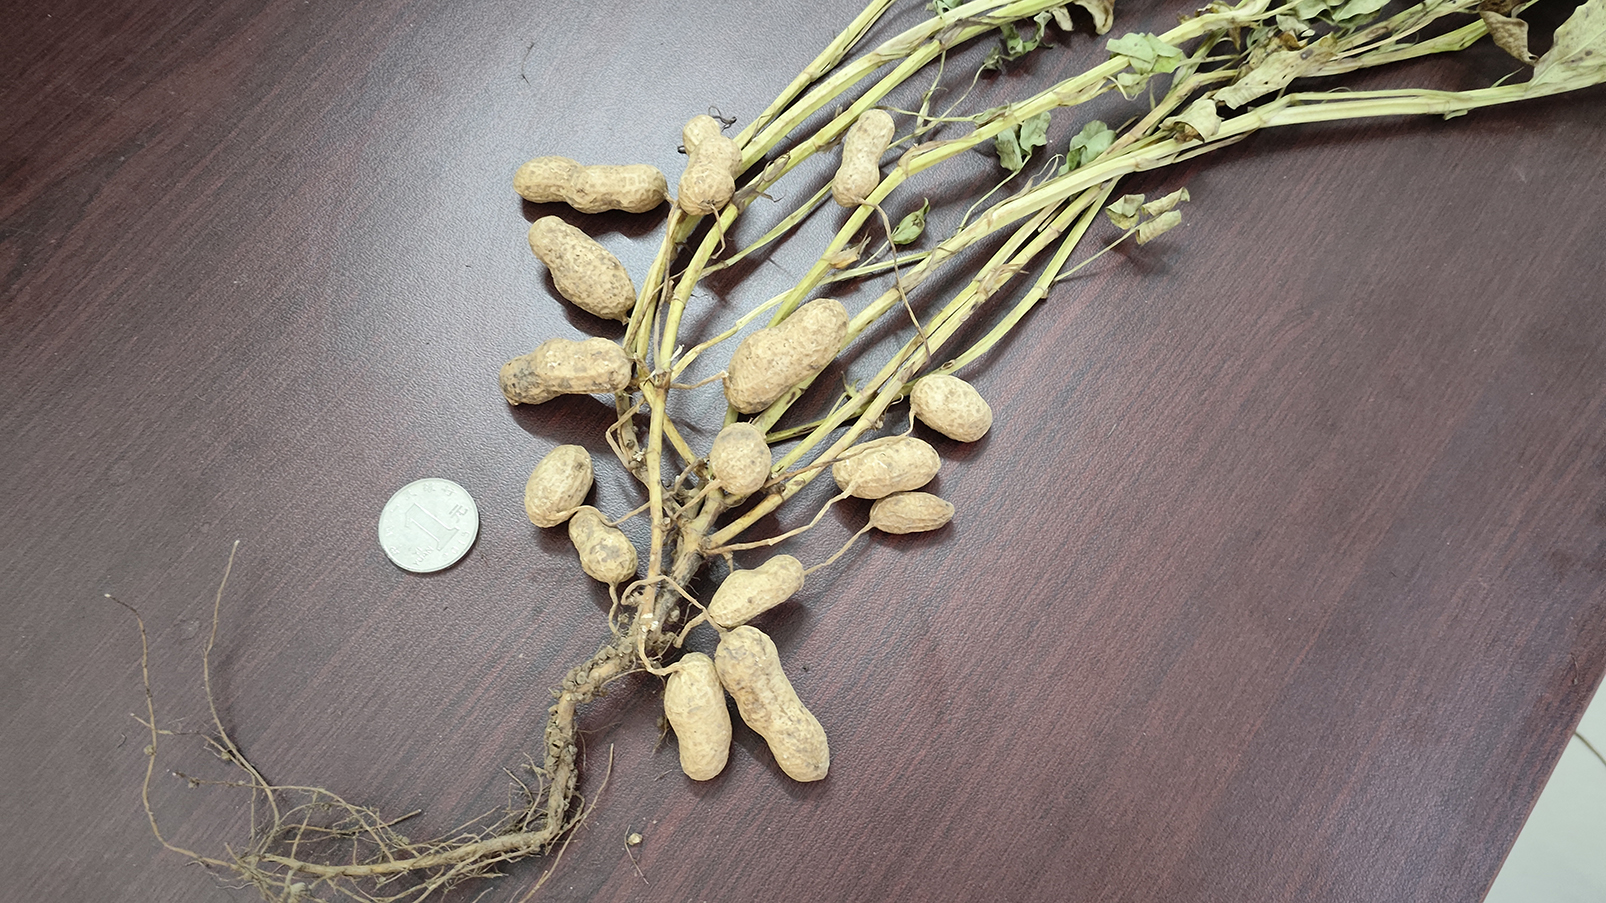h: (715, 625, 829, 781), (724, 299, 848, 413), (528, 215, 638, 323), (499, 333, 630, 405), (662, 651, 731, 782), (515, 155, 668, 214), (708, 553, 806, 627), (829, 436, 941, 498), (677, 112, 742, 215), (829, 108, 895, 206), (909, 370, 995, 442), (522, 442, 595, 526), (566, 507, 636, 584), (707, 422, 772, 494), (869, 490, 956, 533)
